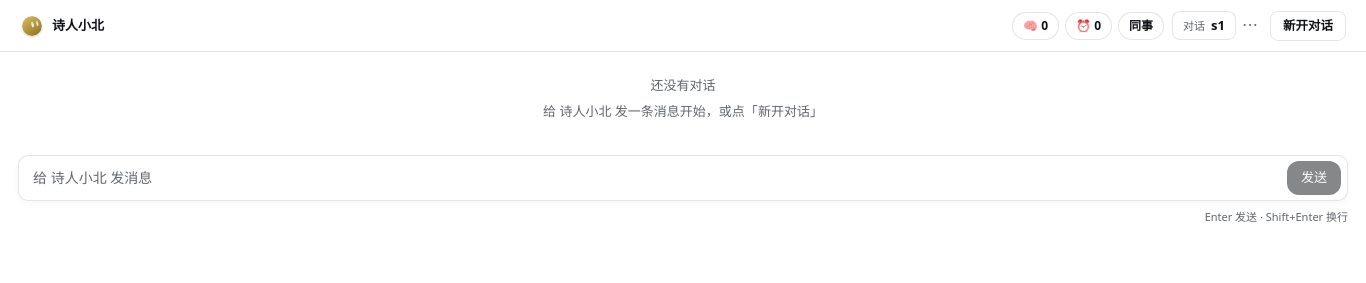
it: Conversation › finds externally created routine sessions when opening the chooser without changing the selection
The image size is (1366, 283).
expect the text box with test id "composer-input" is shown: met, box x1=25 y1=160 x2=1283 y2=196
Click the button with test id "session-select" at (1204, 26), box x1=1172 y1=11 x2=1236 y2=40
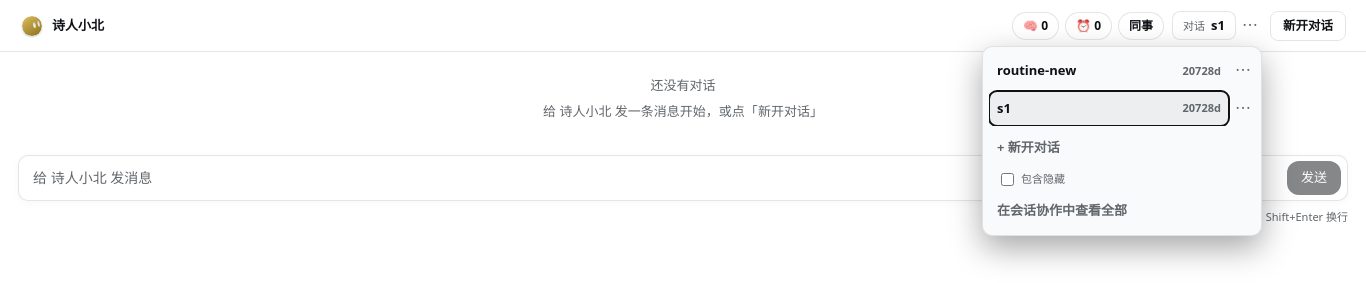
expect the menu item with test id "session-option-routine-new" is shown: met, box x1=989 y1=53 x2=1229 y2=89
